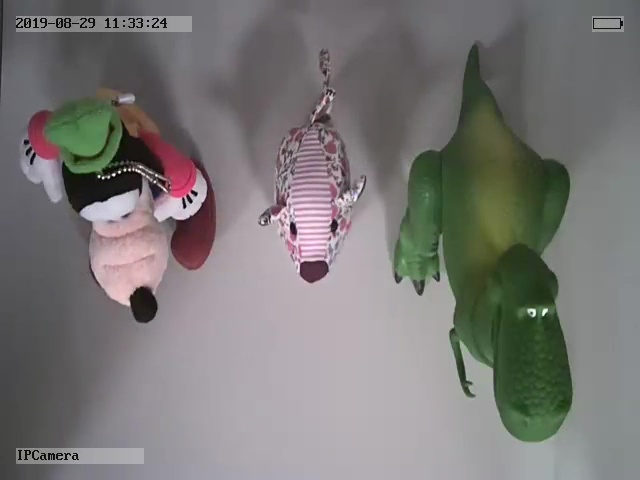goofy: (19, 87, 218, 324)
pig: (257, 48, 368, 287)
rex: (393, 41, 574, 443)
